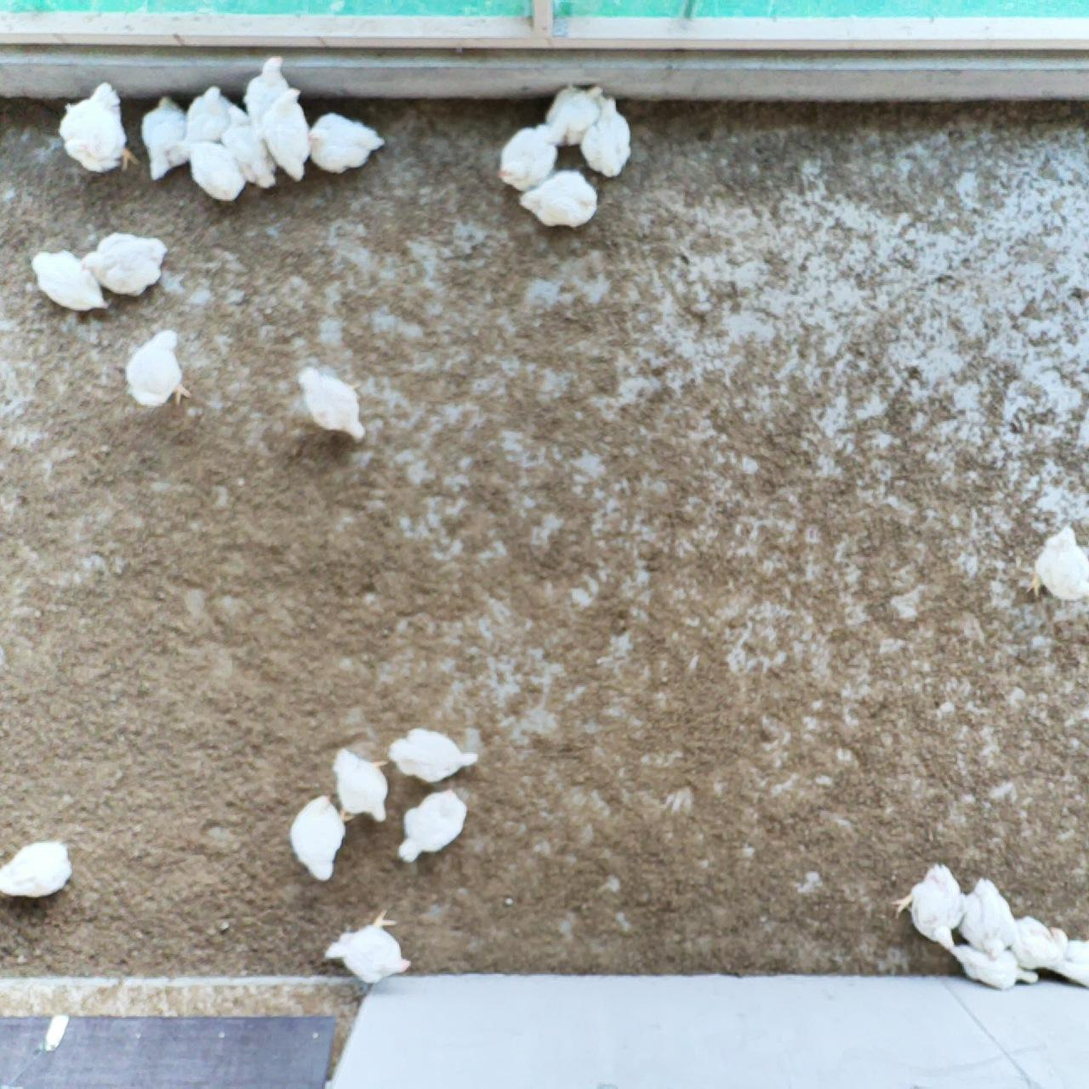chicken: (55, 77, 137, 175), (886, 859, 964, 954), (326, 907, 414, 986), (293, 359, 369, 444), (76, 227, 168, 297), (123, 322, 194, 411), (512, 165, 603, 233), (286, 790, 349, 888), (1020, 519, 1089, 607), (393, 789, 470, 866), (31, 246, 112, 319), (958, 874, 1024, 963), (387, 724, 480, 787), (301, 107, 384, 175), (263, 85, 316, 188), (332, 741, 394, 827), (578, 89, 635, 182), (945, 939, 1045, 992), (0, 836, 77, 902), (540, 78, 604, 149), (139, 92, 190, 181), (182, 137, 245, 207), (496, 120, 559, 190), (224, 119, 277, 192), (241, 51, 287, 131), (1006, 915, 1069, 972), (183, 81, 234, 139)
